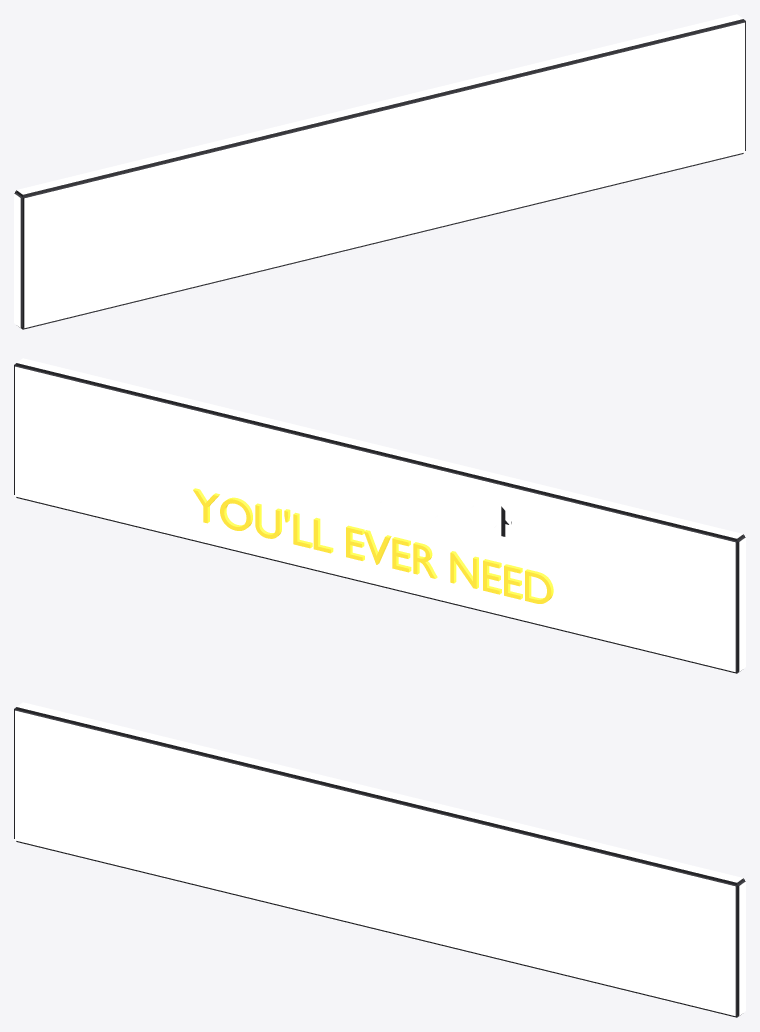
The model's file is sign_slogan.glb.
The picture shows the model from 3 angles, top to bottom: view 1: azimuth 30°, elevation 25°; view 2: azimuth 150°, elevation 25°; view 3: azimuth 330°, elevation 25°; orthographic projection.
Visible parts, largest first — view 1: sign_slogan; view 2: sign_slogan; view 3: sign_slogan.
Boxes of the visible parts, x1,y1,x2,y2 form: sign_slogan: [14, 14, 745, 329]; sign_slogan: [14, 358, 745, 673]; sign_slogan: [14, 702, 745, 1017].
Bounding box in the file's own units: 9 × 1.6 × 0.25.
